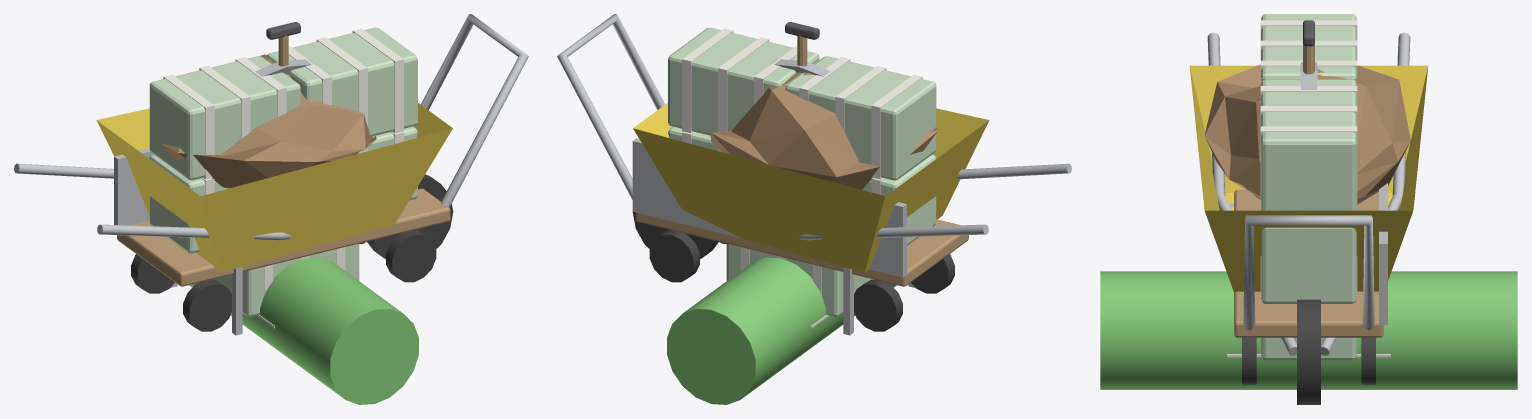
Rendered from props.glb.
3 views of the same model, side by side, from view 1: azimuth 30°, elevation 25°; view 2: azimuth 150°, elevation 25°; view 3: azimuth 270°, elevation 25° (orthographic). The views are drawn at different scales.
Visible parts, largest first — view 1: KEEP Cash cart, KEEP Wheelbarrow, KEEP Grass roll, KEEP Cash brick, KEEP Shovel, KEEP Pickaxe; view 2: KEEP Cash cart, KEEP Wheelbarrow, KEEP Grass roll, KEEP Cash brick, KEEP Shovel, KEEP Pickaxe; view 3: KEEP Cash cart, KEEP Grass roll, KEEP Wheelbarrow, KEEP Cash brick, KEEP Shovel, KEEP Pickaxe.
Boxes of the visible parts, box(x1,y1,x2,y2) form: KEEP Cash cart: box(114, 14, 528, 331); KEEP Wheelbarrow: box(14, 54, 453, 335); KEEP Grass roll: box(189, 257, 418, 404); KEEP Cash brick: box(212, 243, 359, 316); KEEP Shovel: box(266, 22, 300, 66); KEEP Pickaxe: box(252, 59, 315, 77); KEEP Cash cart: box(557, 14, 968, 331); KEEP Wheelbarrow: box(632, 72, 1071, 335); KEEP Grass roll: box(667, 257, 896, 404); KEEP Cash brick: box(726, 243, 873, 316); KEEP Shovel: box(785, 22, 819, 66); KEEP Pickaxe: box(770, 59, 833, 77); KEEP Cash cart: box(1234, 14, 1387, 384); KEEP Grass roll: box(1100, 271, 1517, 389); KEEP Wheelbarrow: box(1189, 32, 1428, 404); KEEP Cash brick: box(1261, 337, 1356, 360); KEEP Shovel: box(1303, 20, 1314, 74); KEEP Pickaxe: box(1300, 62, 1317, 92).
Size of the model in its own units: 1.97 by 1.32 by 1.4.
